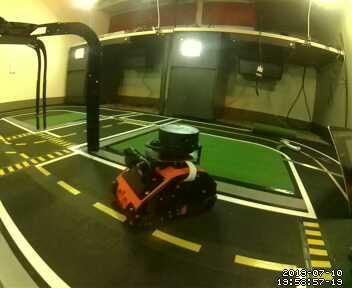pheeno: (112, 118, 219, 232)
